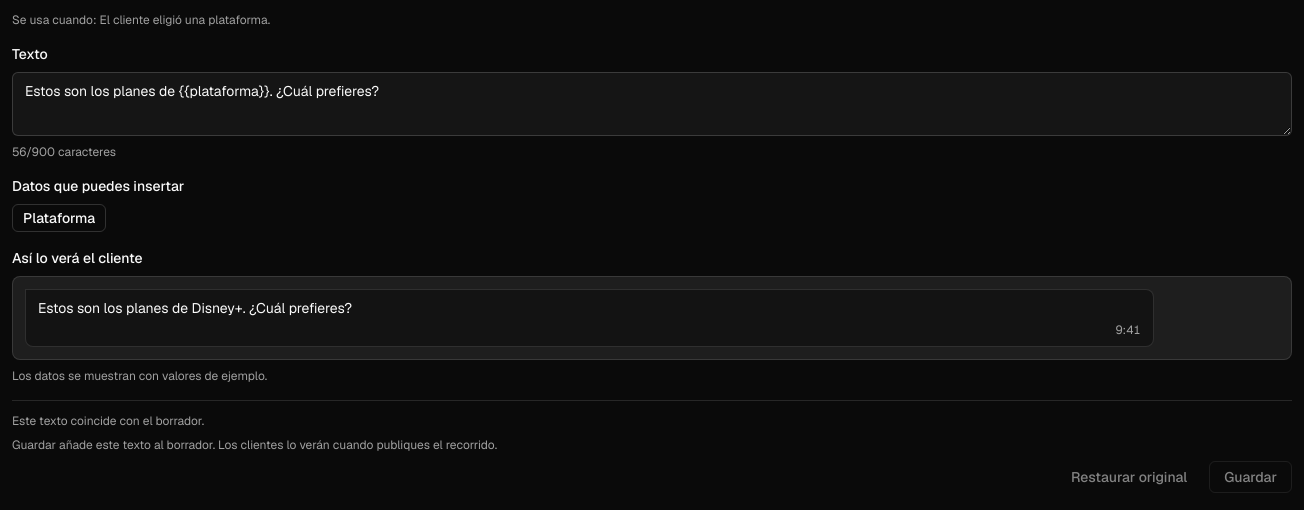
Test: CopyEditor › inserta un dato en la posición del cursor y marca los obligatorios
Step 1. Replace the text in the text box labelled "Texto" with "Planes de " → (652, 104), box [12,72,1292,136]
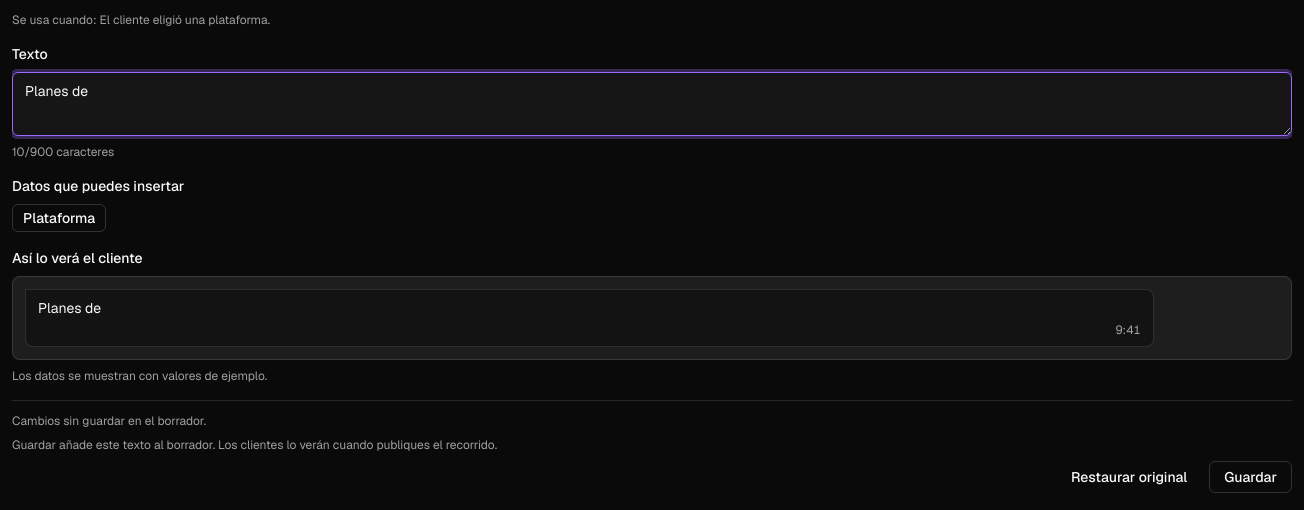
Step 2. Click the button "Plataforma" → (59, 218), box [12,204,106,232]
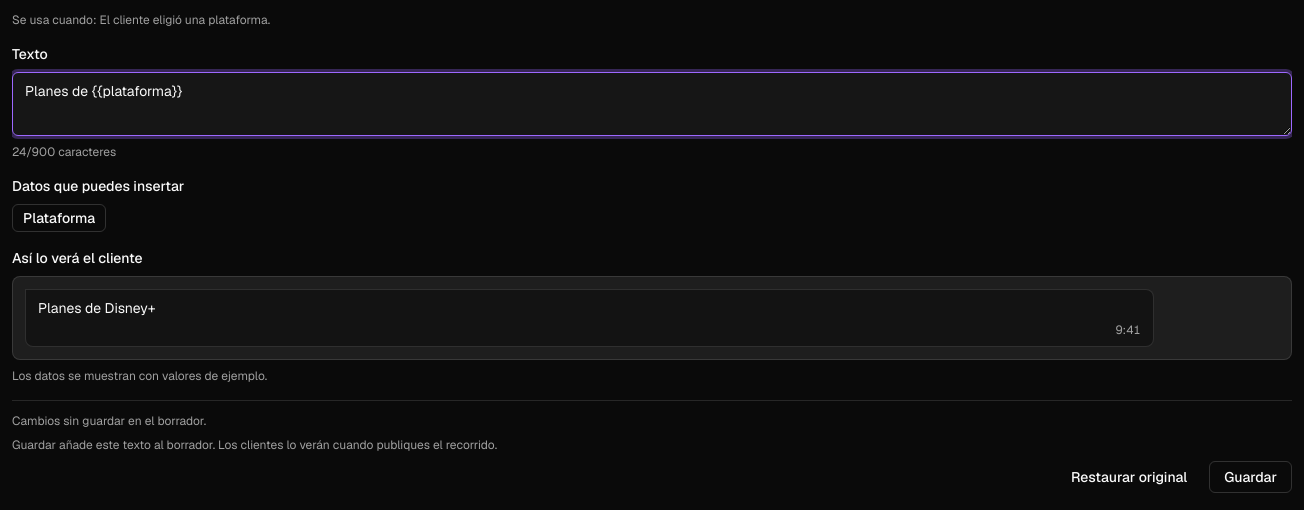
Expected: the text box labelled "Texto" holds "Planes de {{plataforma}}", [12,72,1292,136]
